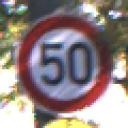speed_limit_50: (17, 13, 108, 112)
